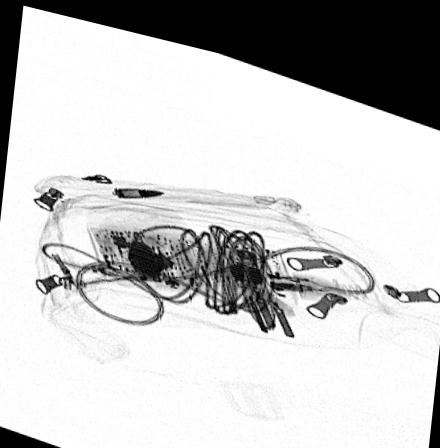Bullet: (114, 179, 165, 190)
